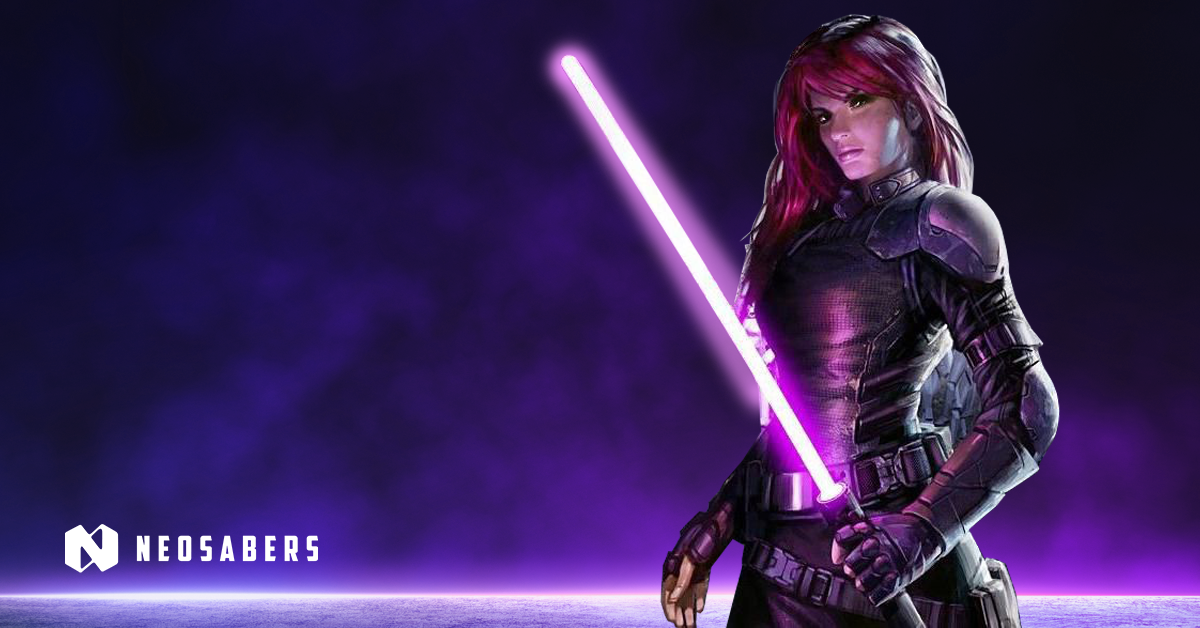lightsaber: (554, 36, 1017, 628)
